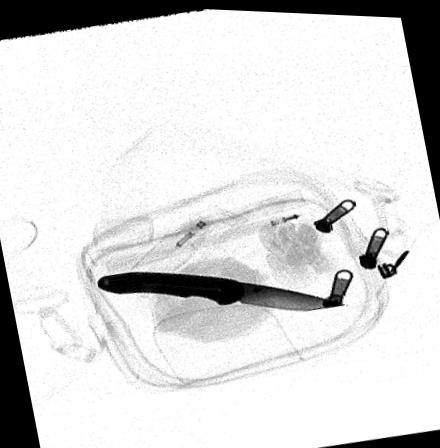Knife: (94, 268, 346, 308)
